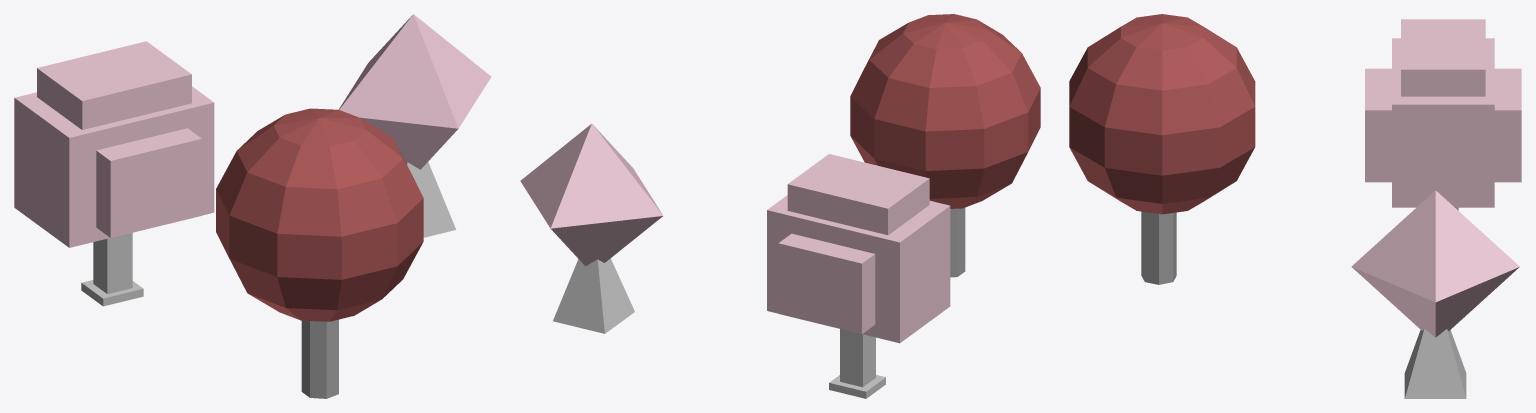
3 views of the same model, side by side, from view 1: azimuth 30°, elevation 25°; view 2: azimuth 150°, elevation 25°; view 3: azimuth 270°, elevation 25° (orthographic). The views are drawn at different scales.
Visible parts, largest first — view 1: pSphere2, tree_01, tree_04; view 2: tree_01, pSphere2, tree_04; view 3: pSphere2, tree_01, tree_04.
Boxes of the visible parts, box(x1,y1,x2,y2) form: pSphere2: box(216, 108, 423, 398); tree_01: box(14, 41, 214, 306); tree_04: box(339, 14, 491, 237); tree_01: box(767, 154, 950, 398); pSphere2: box(850, 14, 1040, 277); tree_04: box(520, 123, 663, 333); pSphere2: box(1069, 14, 1255, 284); tree_01: box(1365, 19, 1521, 210); tree_04: box(1351, 190, 1519, 398).
Size of what is drawn, in the model's own units: 31.82 by 18.62 by 29.89.
